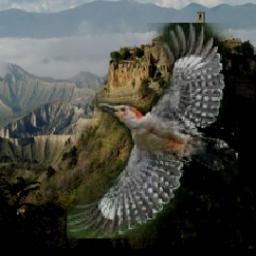Woodpecker: (67, 24, 238, 239)
